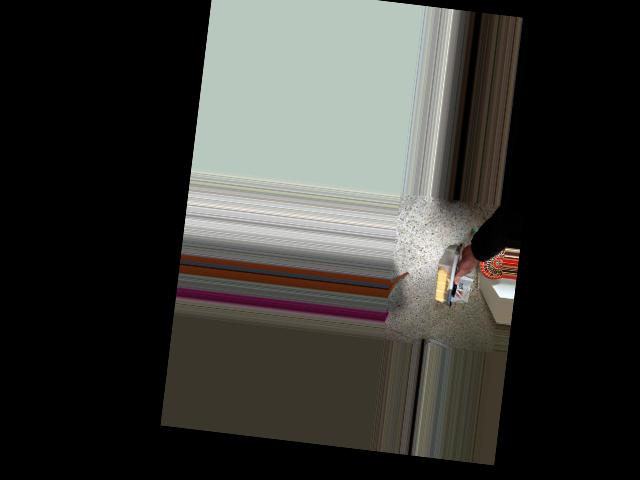cheese: (418, 228, 492, 305)
